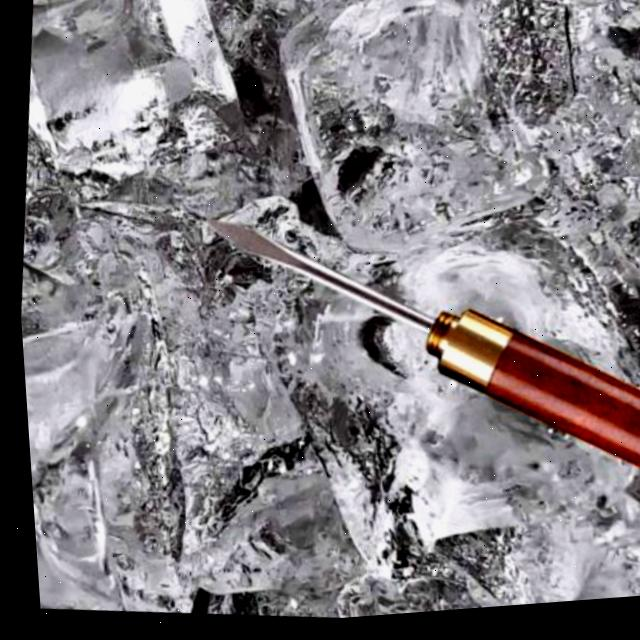ice pick: (169, 196, 640, 519)
